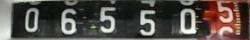digits: (98, 6, 116, 32), (139, 9, 156, 35), (60, 8, 77, 34), (179, 8, 196, 33), (24, 7, 40, 31), (218, 1, 233, 23)
